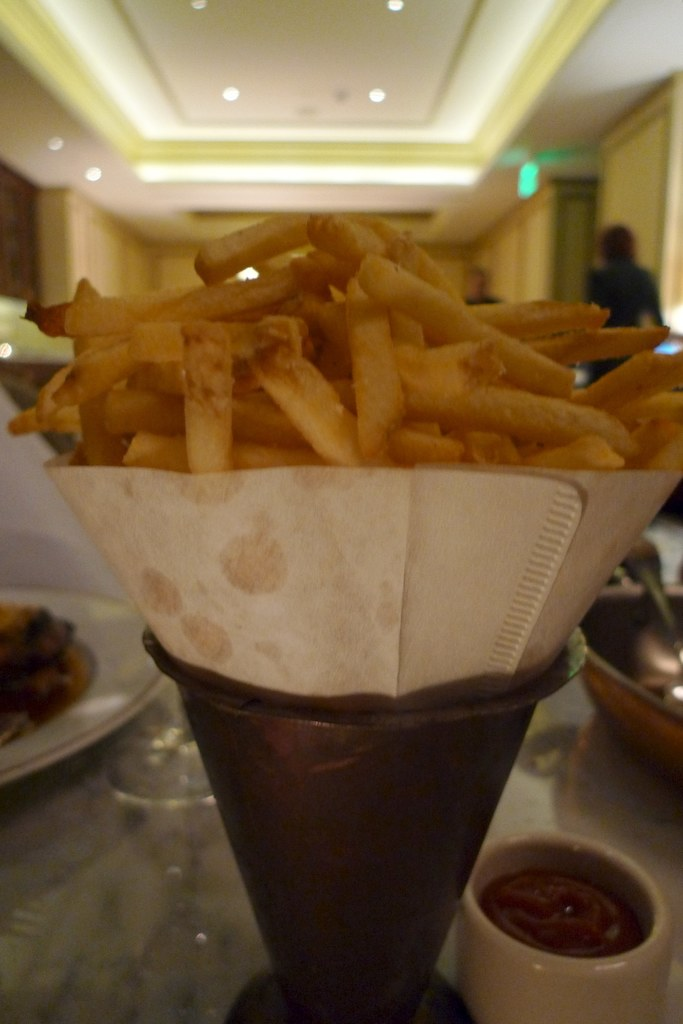French fries: (3, 199, 682, 472)
